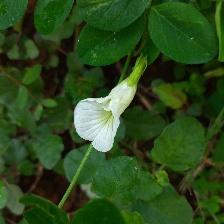shankupushpam: (73, 79, 141, 155)
